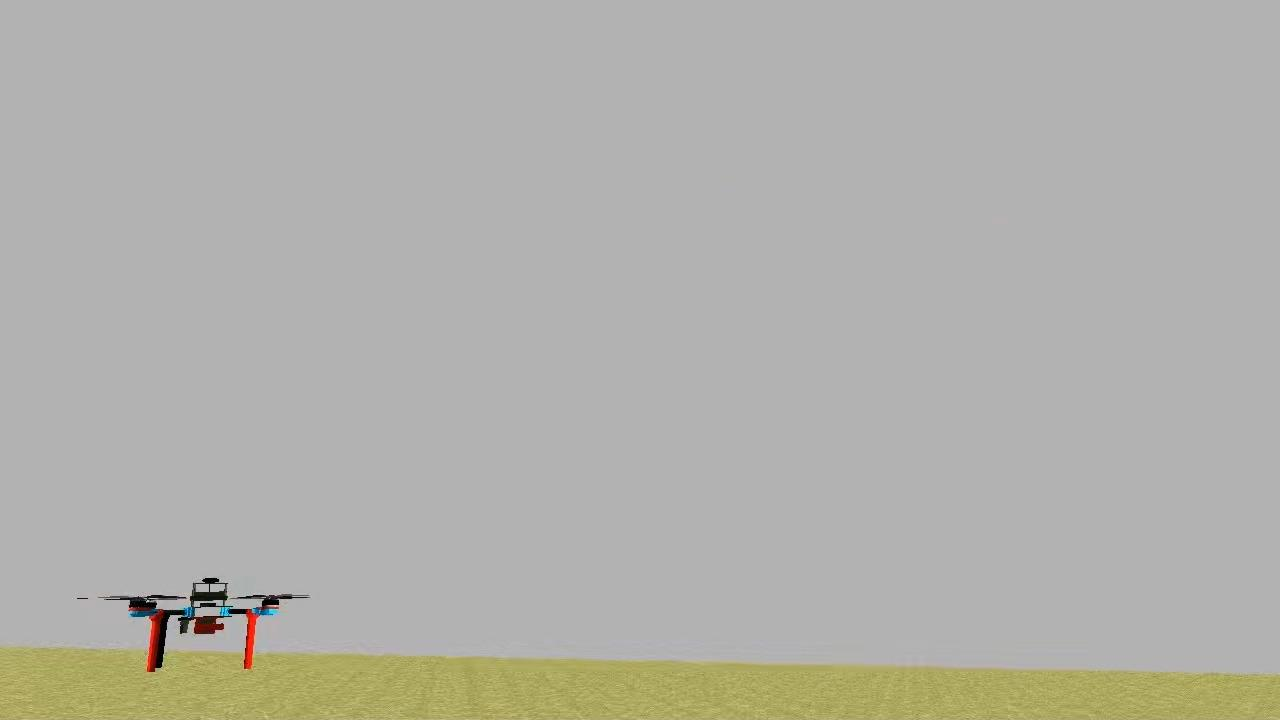UAV: (108, 566, 292, 679)
